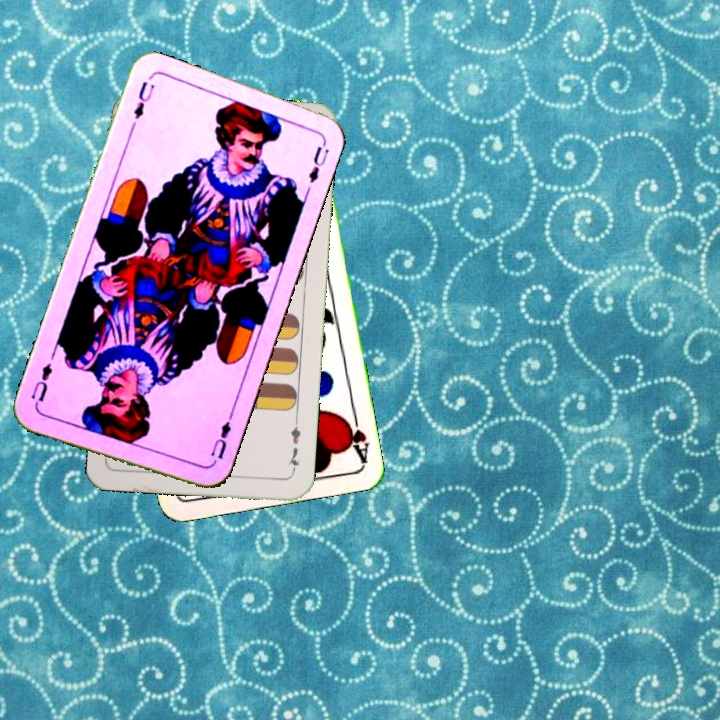E7: (284, 417, 303, 476)
EU: (206, 410, 236, 468), (129, 77, 158, 122)
HA: (339, 405, 372, 465)
